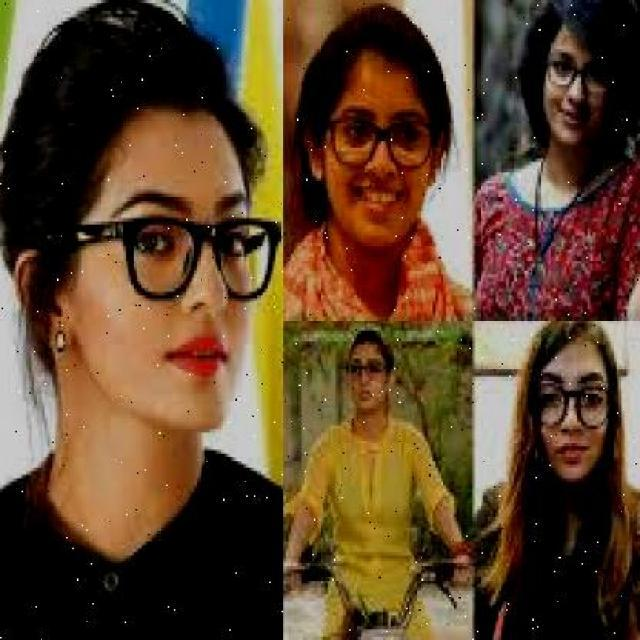mask: (112, 204, 286, 310), (324, 106, 446, 176), (521, 376, 617, 433), (543, 46, 617, 94), (338, 351, 391, 384)
